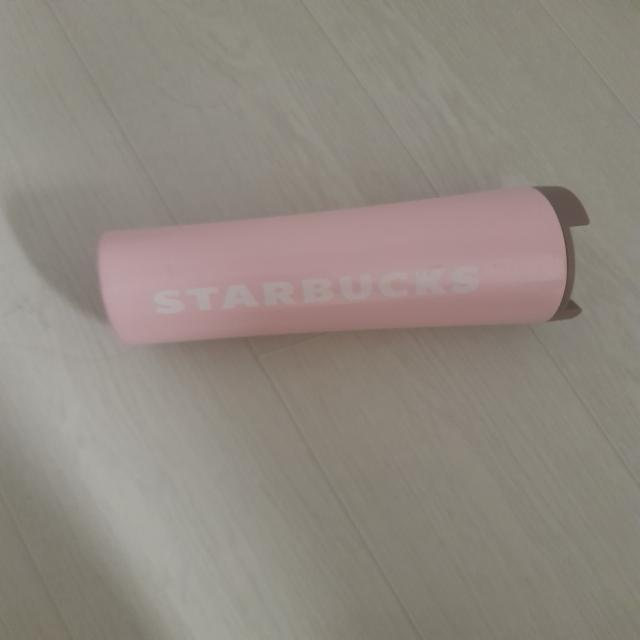waterbottle: (96, 182, 584, 341)
